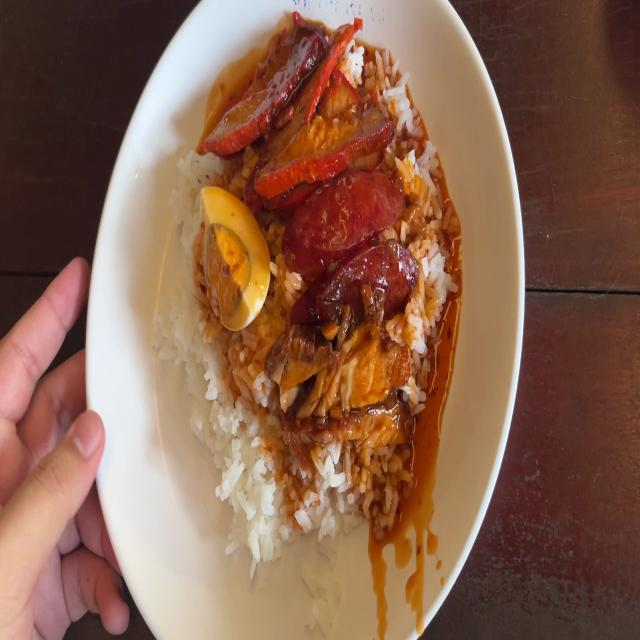red_pork_and_crispy_pork: (225, 88, 289, 259)
stir_fried_basil: (294, 173, 417, 322)
